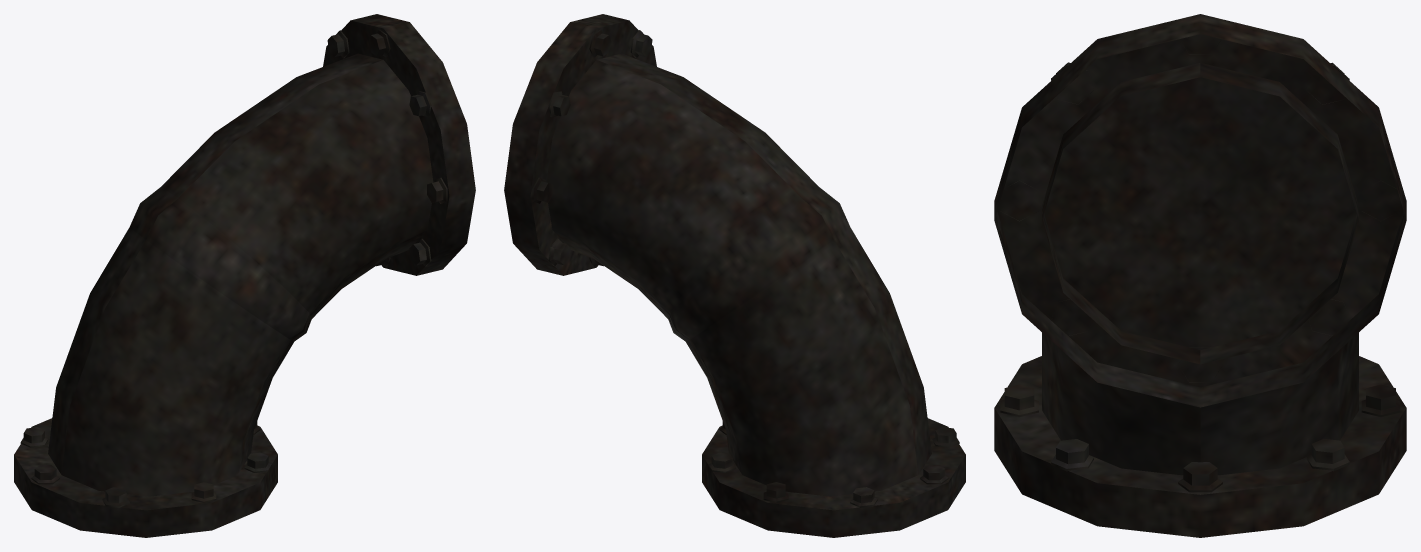
Rendered from pipe_1_corner.obj.
3 views of the same model, side by side, from view 1: azimuth 30°, elevation 25°; view 2: azimuth 150°, elevation 25°; view 3: azimuth 270°, elevation 25° (orthographic). The views are drawn at different scales.
Visible parts, largest first — view 1: pipe_1_corner; view 2: pipe_1_corner; view 3: pipe_1_corner.
Part boxes in pixels (x1,y1,x2,y2): pipe_1_corner: (14, 14, 475, 537); pipe_1_corner: (504, 14, 965, 537); pipe_1_corner: (994, 14, 1406, 537).
Bounding box in the file's own units: 0.43 × 0.43 × 0.26.
